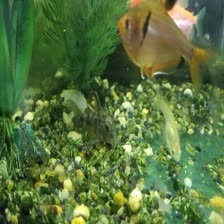Guppy: (150, 99, 188, 168)
Kiros: (63, 85, 126, 156)
Transparente: (112, 5, 212, 96)
